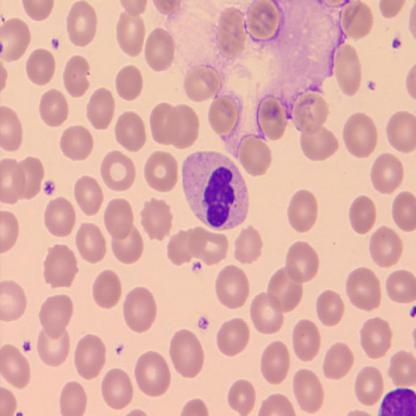Segmented neutrophil: (179, 148, 252, 233)
